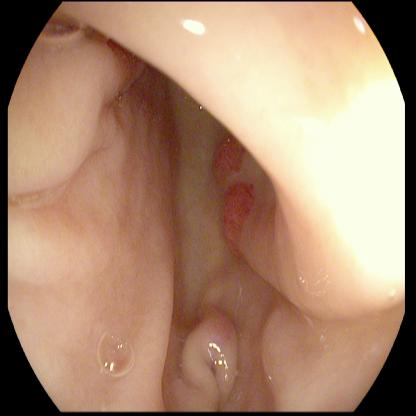Polyps: (174, 306, 252, 401)
